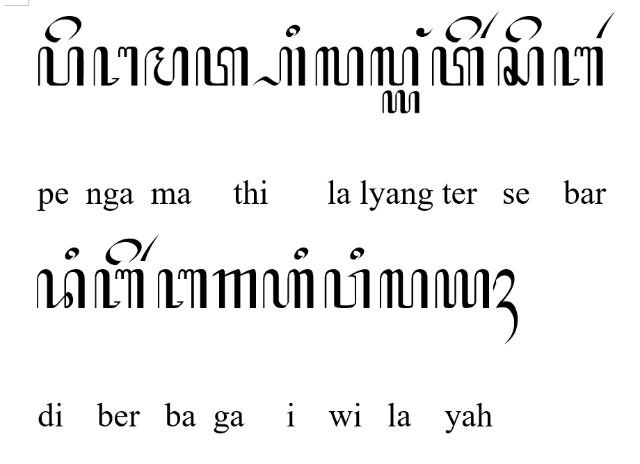_h: (250, 45, 306, 87)
_h1: (494, 268, 518, 346)
_r: (140, 233, 160, 262)
_r1: (594, 10, 616, 40), (480, 11, 500, 39)
b: (93, 268, 145, 310), (157, 268, 207, 310), (554, 46, 602, 86)
d: (36, 268, 86, 310)
e: (446, 14, 482, 44), (504, 15, 542, 43), (105, 239, 144, 266), (46, 15, 82, 43)
g: (212, 268, 258, 310)
h: (262, 268, 314, 310)
i: (63, 246, 81, 260), (349, 246, 365, 260), (294, 246, 308, 260), (286, 24, 300, 37)
l: (315, 45, 365, 87), (369, 46, 419, 88), (379, 268, 429, 308)
m: (144, 46, 188, 86)
ng: (416, 27, 434, 37)
nga: (93, 44, 139, 86)
p: (38, 46, 84, 86)
s: (497, 46, 545, 88)
t: (195, 45, 249, 87), (432, 46, 484, 86)
w: (324, 268, 371, 310)
y: (434, 268, 490, 310), (382, 90, 421, 114)
